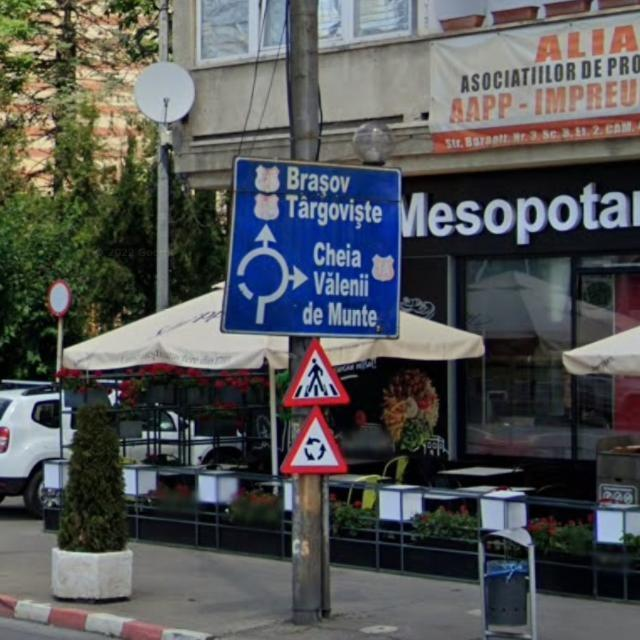warn_crosswalk: (280, 337, 349, 408)
